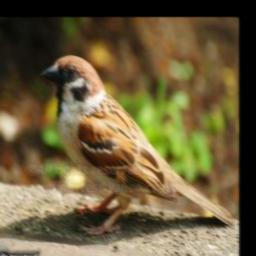Sparrow: (40, 53, 235, 236)
